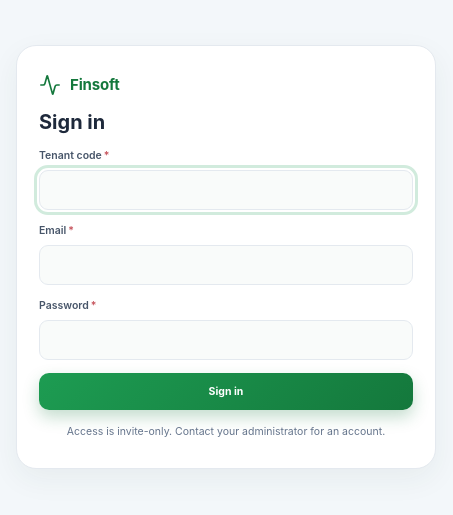
LoginScreen › shows the rate-limit banner with a counting-down retry time and disables submit
Type "ACME" into the field labelled "Tenant code *" at coordinates (226, 190), box x1=39 y1=170 x2=413 y2=210
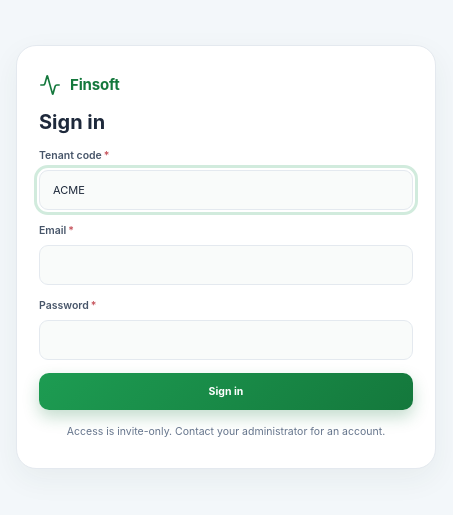
Type "a@b.com" into the field labelled "Email *" at coordinates (226, 265), box x1=39 y1=245 x2=413 y2=285
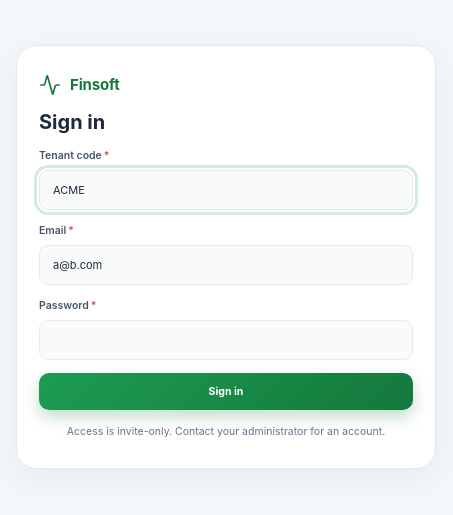
Type "x" into the password field labelled "Password *" at coordinates (226, 340), box x1=39 y1=320 x2=413 y2=360
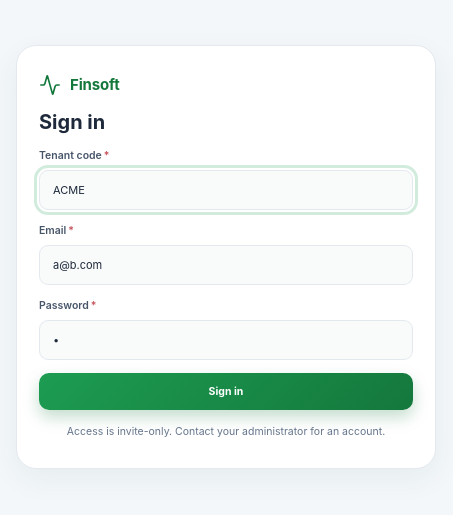
Click the button "Sign in" at coordinates (226, 392), box x1=39 y1=374 x2=413 y2=410
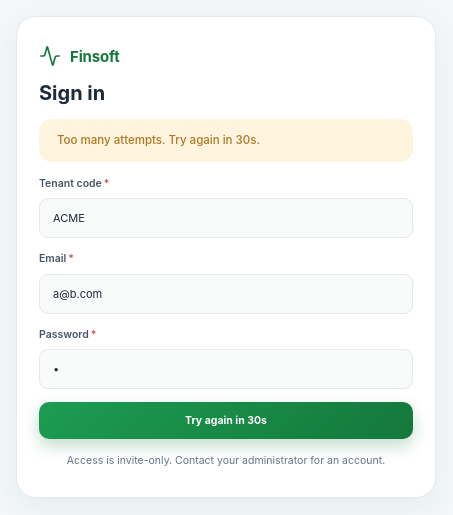
Check: the text "Too many attempts. Try again in 30s." is shown, box x1=57 y1=134 x2=260 y2=148
Check: the text "30" is shown, box x1=236 y1=134 x2=250 y2=148
Check: the button "Try again in 30s" is disabled, box x1=39 y1=402 x2=413 y2=439
